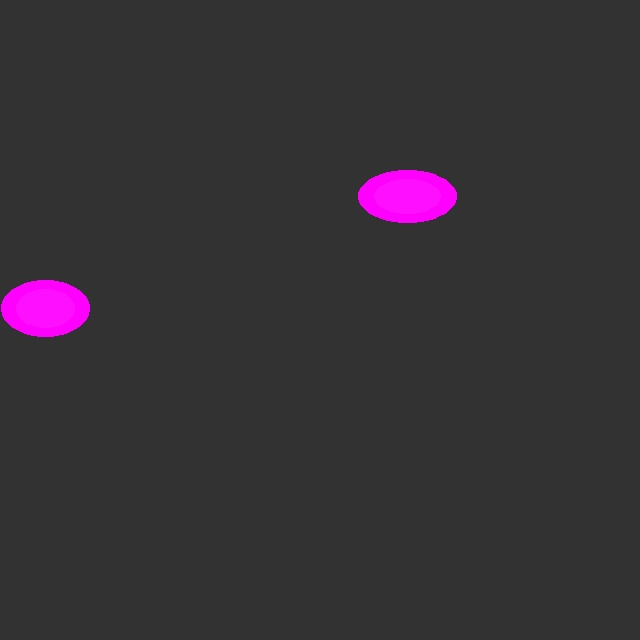fish: (0, 279, 89, 337), (358, 170, 457, 222)
